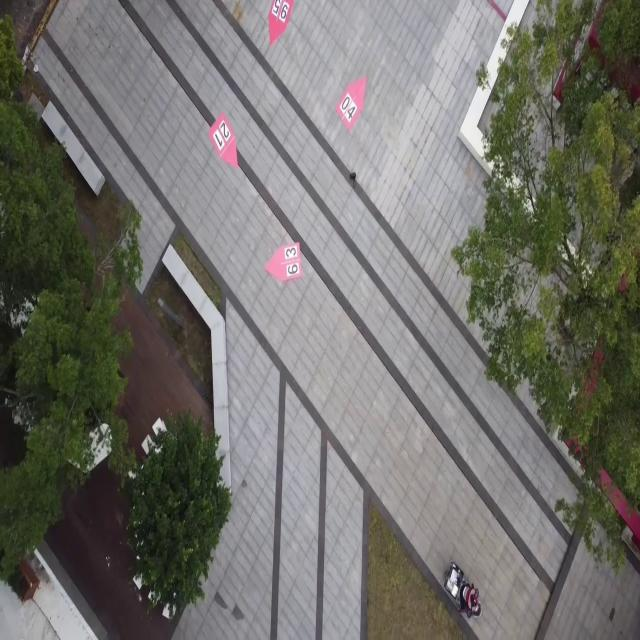-sign-: (203, 111, 246, 172), (261, 0, 302, 56), (264, 237, 308, 288), (333, 75, 373, 130)
